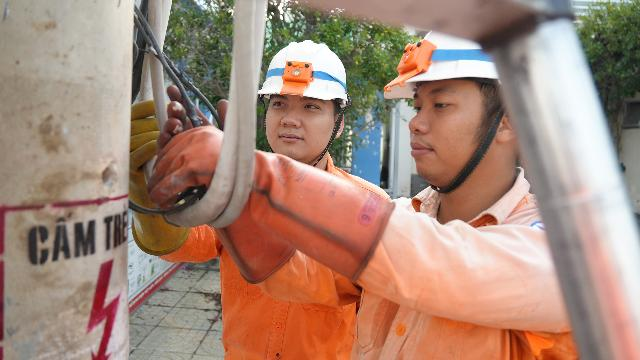gloves: (122, 103, 406, 296), (152, 115, 392, 276), (150, 85, 298, 278), (118, 93, 206, 260)
helmet: (391, 16, 524, 110), (259, 32, 353, 113)
